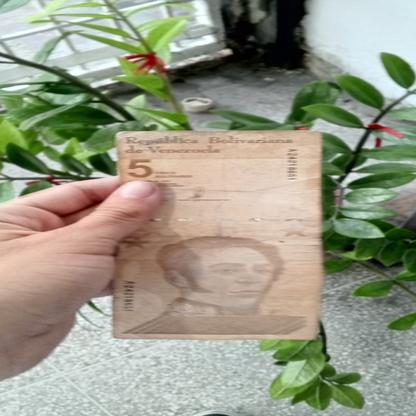five-front-vef: (111, 130, 324, 339)
